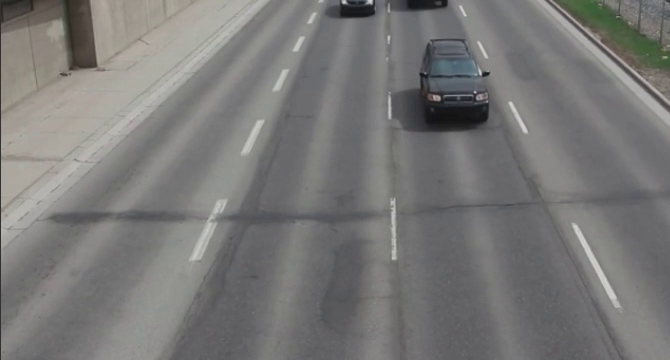car: (416, 36, 494, 130)
